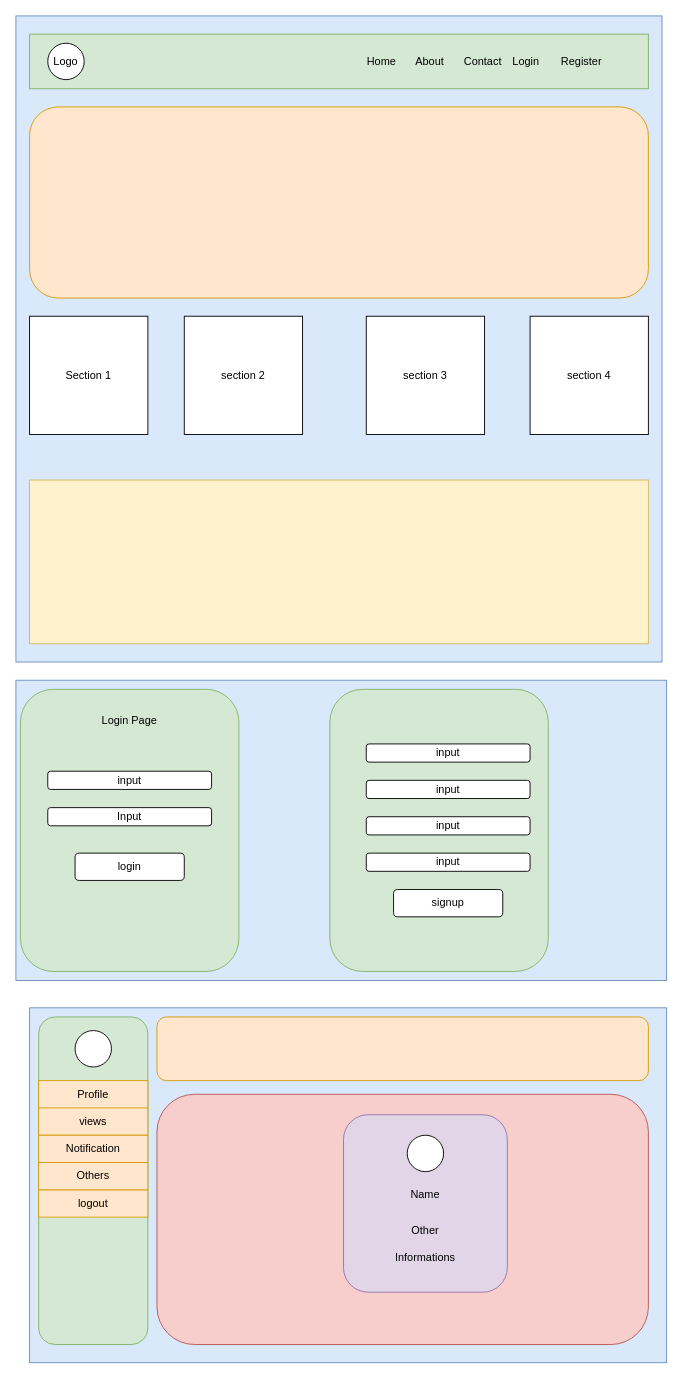
This 683x1379 diagram has some shape labels left out. Each missing label, with the centre of its shape:
"Footer" belongs at pixel 338 561.
"Some Contents" belongs at pixel 338 202.
"User or Admin Pannel" belongs at pixel 402 1048.
